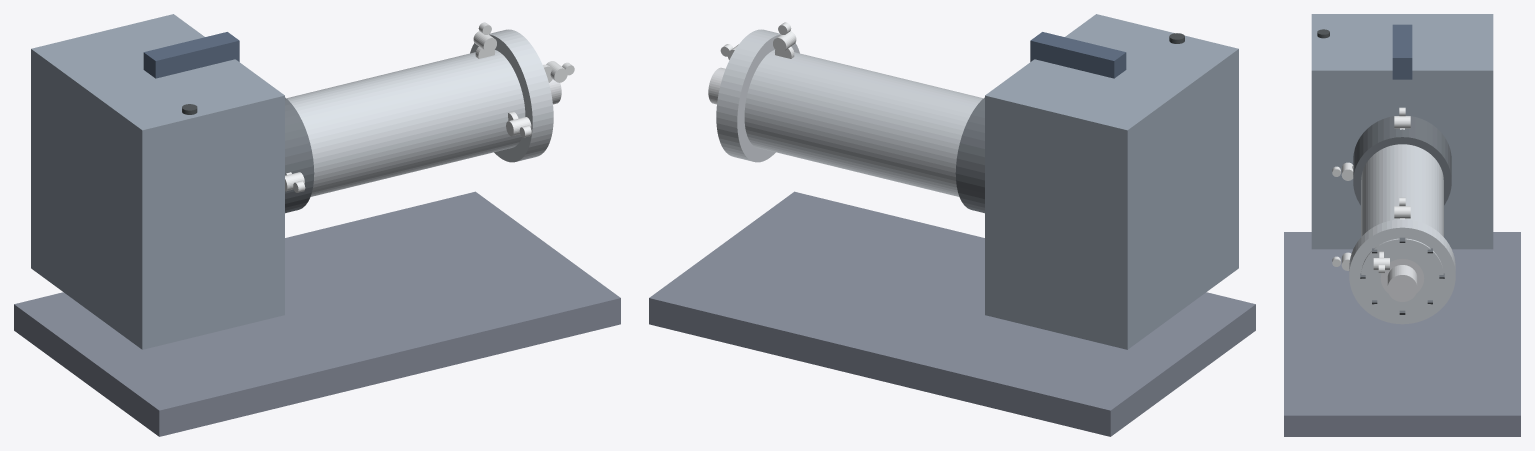
The model's file is spindle.glb.
The picture shows the model from 3 angles, left to right: view 1: azimuth 30°, elevation 25°; view 2: azimuth 150°, elevation 25°; view 3: azimuth 270°, elevation 25°; orthographic projection. The views are drawn at different scales.
Visible parts, largest first — view 1: CASING_HEADSTOCK_002, PART_001, CASING_CARTRIDGE_003, CASING_NOSE_005, PART_014, PART_018, SNS_SPINDLE_FRONT_V; view 2: CASING_HEADSTOCK_002, PART_001, CASING_CARTRIDGE_003, CASING_NOSE_005, PART_014, PART_018, SNS_SPINDLE_FRONT_V; view 3: PART_001, CASING_HEADSTOCK_002, CASING_CARTRIDGE_003, CASING_NOSE_005, PART_018, PART_014, PART_016, PART_019, SNS_SPINDLE_REAR_H, SNS_SPINDLE_FRONT_V, SNS_SPINDLE_REAR_V, SNS_SPINDLE_FRONT_A (+1 smaller).
Part boxes in pixels (left/top/right/bottom): CASING_HEADSTOCK_002: left=31, top=14, right=284, bottom=349; PART_001: left=14, top=191, right=620, bottom=436; CASING_CARTRIDGE_003: left=286, top=50, right=525, bottom=196; CASING_NOSE_005: left=470, top=29, right=553, bottom=162; PART_014: left=143, top=32, right=239, bottom=78; PART_018: left=285, top=97, right=314, bottom=213; SNS_SPINDLE_FRONT_V: left=473, top=22, right=496, bottom=58; CASING_HEADSTOCK_002: left=985, top=14, right=1238, bottom=349; PART_001: left=649, top=191, right=1255, bottom=436; CASING_CARTRIDGE_003: left=744, top=50, right=983, bottom=196; CASING_NOSE_005: left=716, top=29, right=799, bottom=162; PART_014: left=1030, top=32, right=1126, bottom=78; PART_018: left=955, top=97, right=984, bottom=213; SNS_SPINDLE_FRONT_V: left=773, top=22, right=796, bottom=58; PART_001: left=1284, top=232, right=1520, bottom=436; CASING_HEADSTOCK_002: left=1311, top=14, right=1493, bottom=249; CASING_CARTRIDGE_003: left=1361, top=144, right=1443, bottom=314; CASING_NOSE_005: left=1349, top=219, right=1455, bottom=324; PART_018: left=1353, top=115, right=1451, bottom=205; PART_014: left=1392, top=24, right=1412, bottom=79; PART_016: left=1387, top=265, right=1417, bottom=301; PART_019: left=1380, top=259, right=1424, bottom=292; SNS_SPINDLE_REAR_H: left=1332, top=162, right=1353, bottom=180; SNS_SPINDLE_FRONT_V: left=1394, top=197, right=1410, bottom=219; SNS_SPINDLE_REAR_V: left=1394, top=107, right=1410, bottom=129; SNS_SPINDLE_FRONT_A: left=1373, top=251, right=1389, bottom=273.
Bounding box in the file's own units: 1.13 × 0.71 × 0.6.
